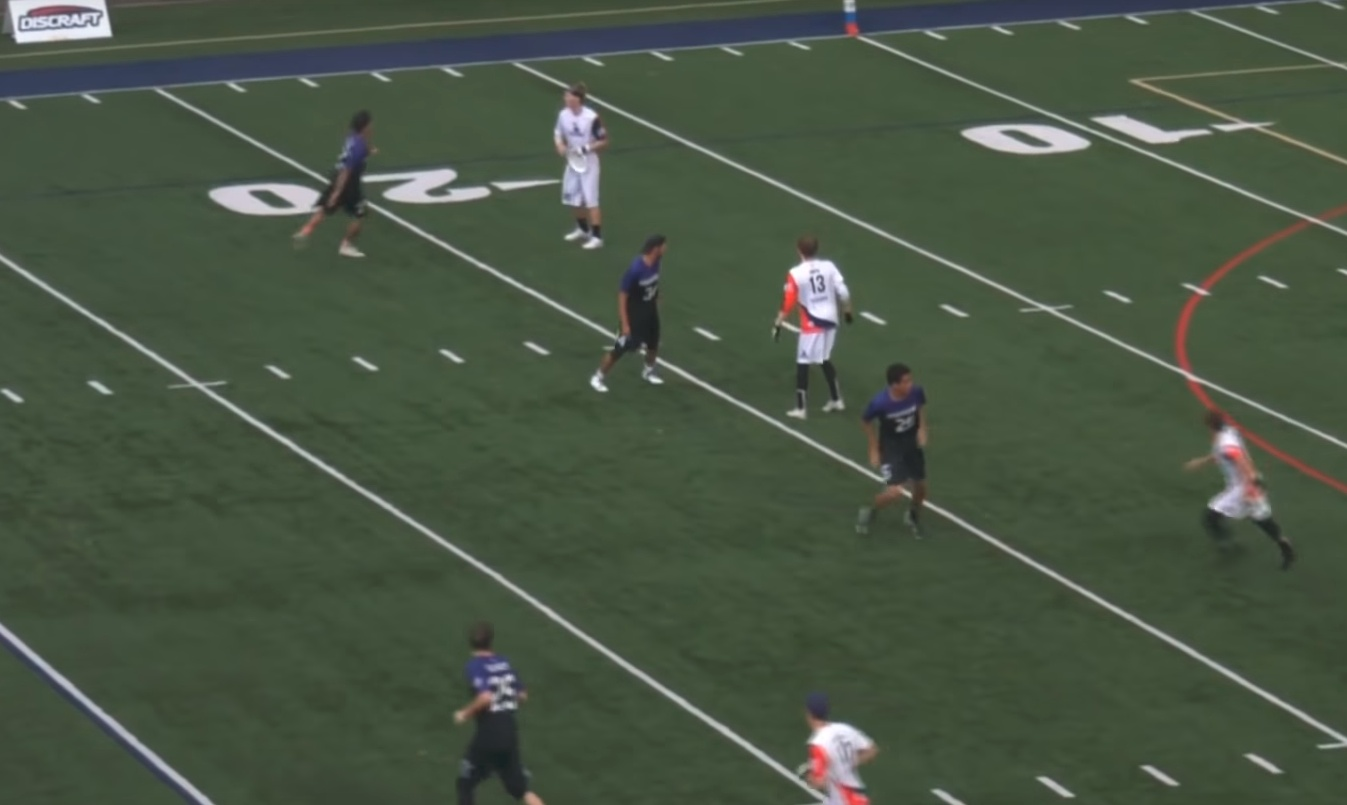frisbee: (566, 148, 589, 173)
